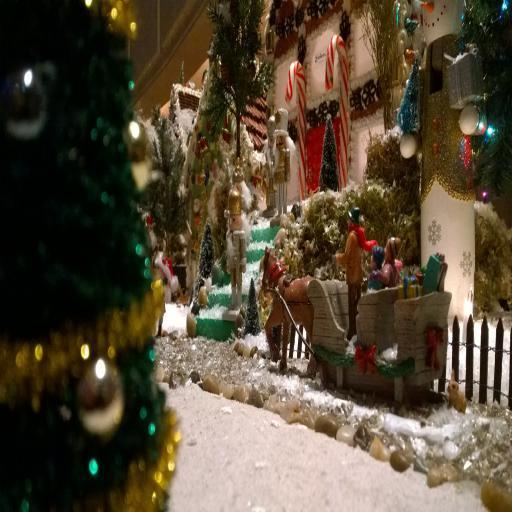horse: (258, 244, 314, 382)
